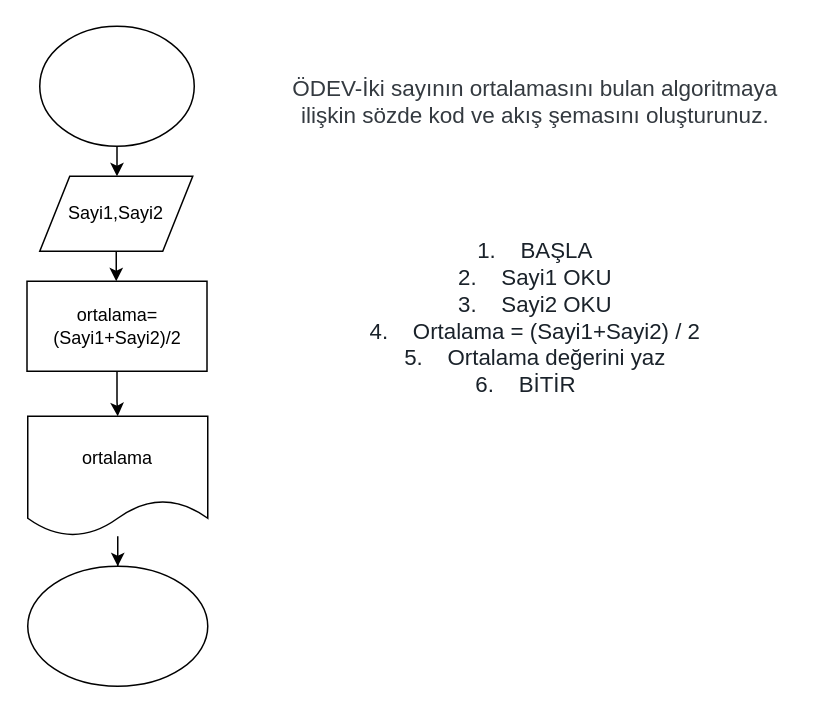
Some shapes in this 815 by 713 pixel diagram are drawn without their labels. The box of each missing label's shape, as (x1, y1, x2, y2) in pixels:
BAŞLA: (38, 25, 194, 146)
BİTİR: (26, 565, 208, 686)
